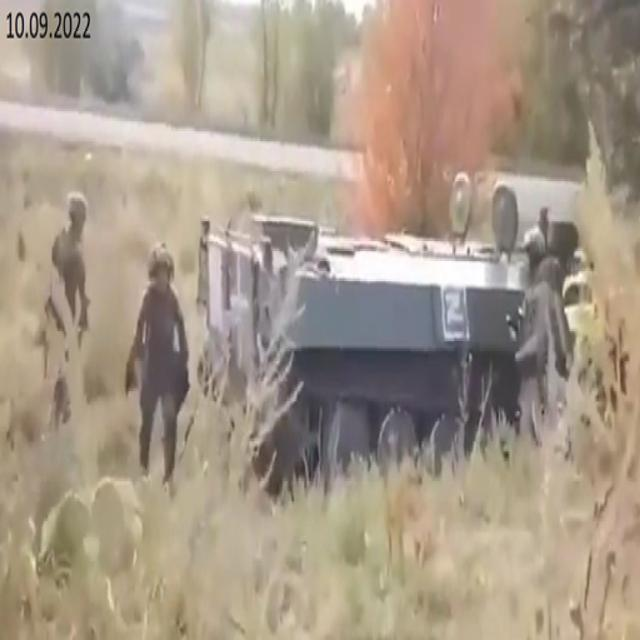APC-IFV: (194, 173, 581, 484)
